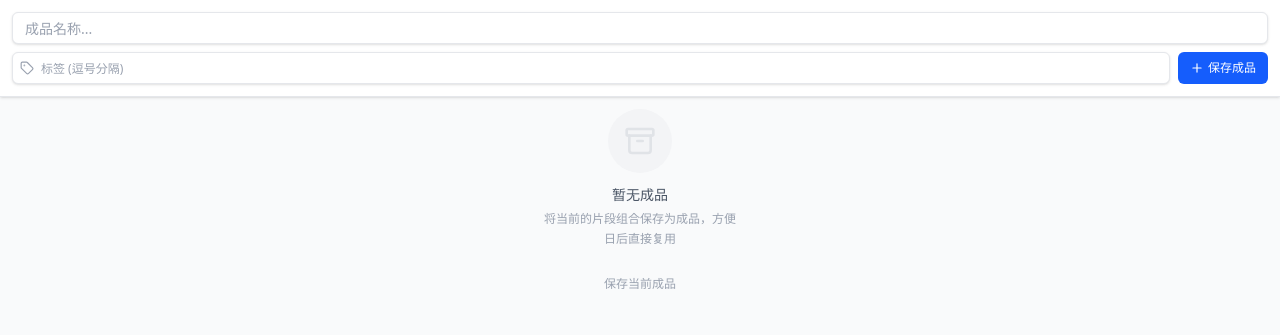
Scenario: SavedPromptsPanel › allows saving with different case (case-sensitive)
The width and height of the screenshot is (1280, 335).
In the field with placeholder "成品名称...": (640, 28) [12, 12, 1268, 44], type "Case"
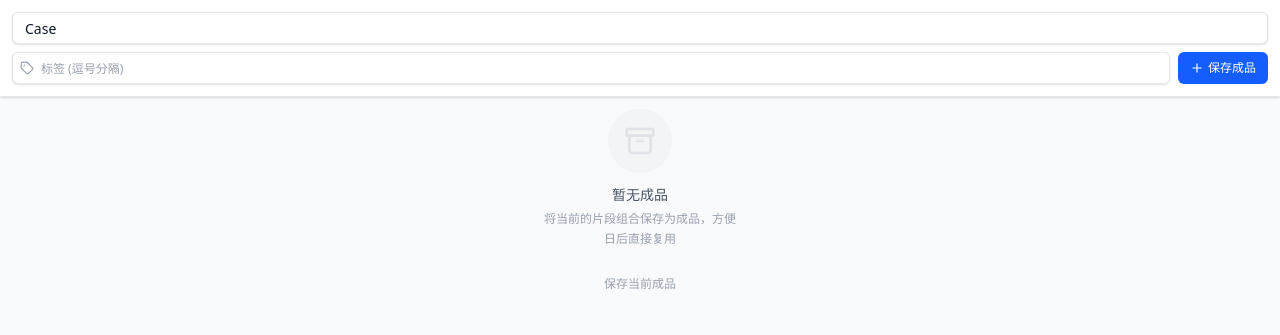
Click the button with test id "saved-prompts-save": (1223, 68) [1178, 52, 1268, 84]
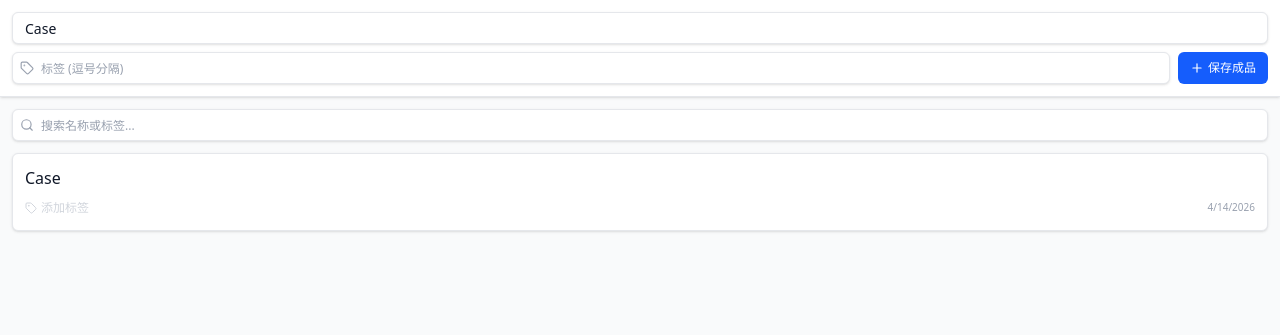
Replace the text in the field with placeholder "成品名称..." with "case": (640, 28) [12, 12, 1268, 44]
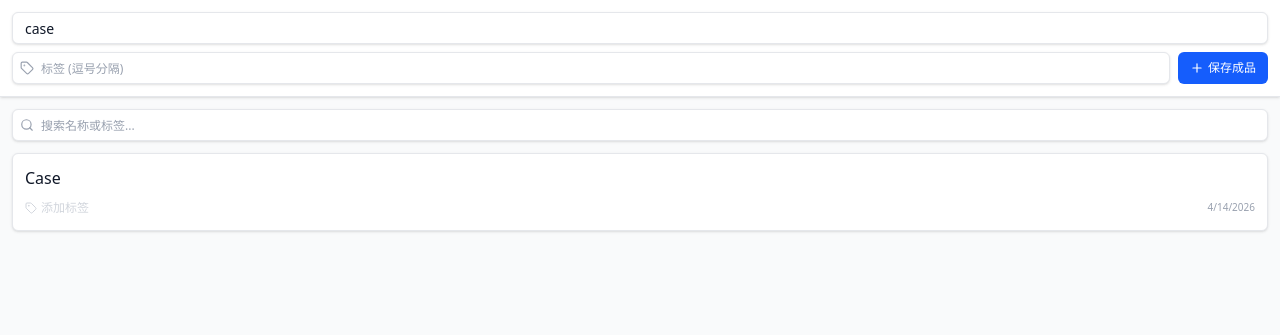
Click the button with test id "saved-prompts-save": (1223, 68) [1178, 52, 1268, 84]
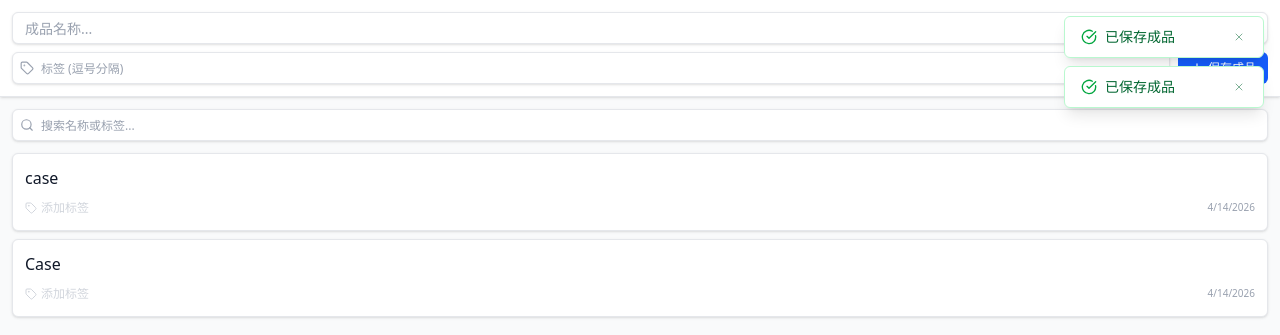
Result: the button "Case" is shown at [25, 252, 1167, 276]
Result: the button "case" is shown at [25, 166, 1167, 190]
